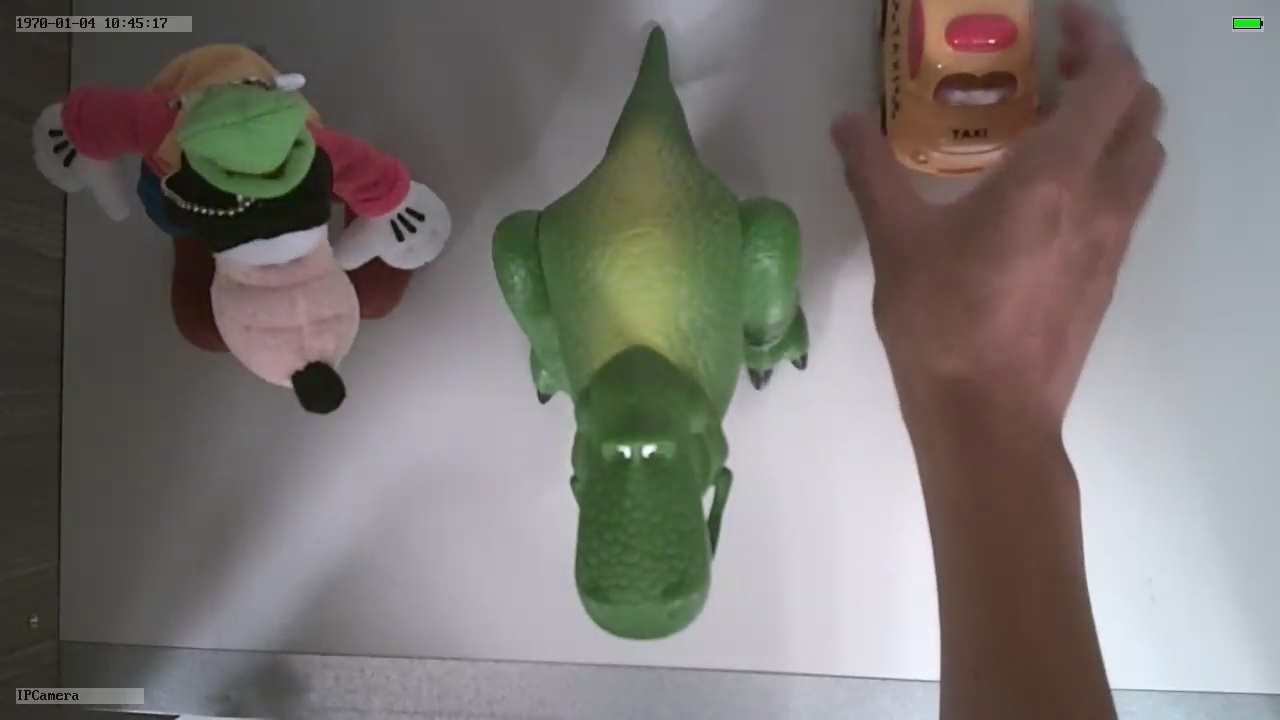goofy: (34, 38, 453, 419)
rex: (488, 99, 812, 642)
